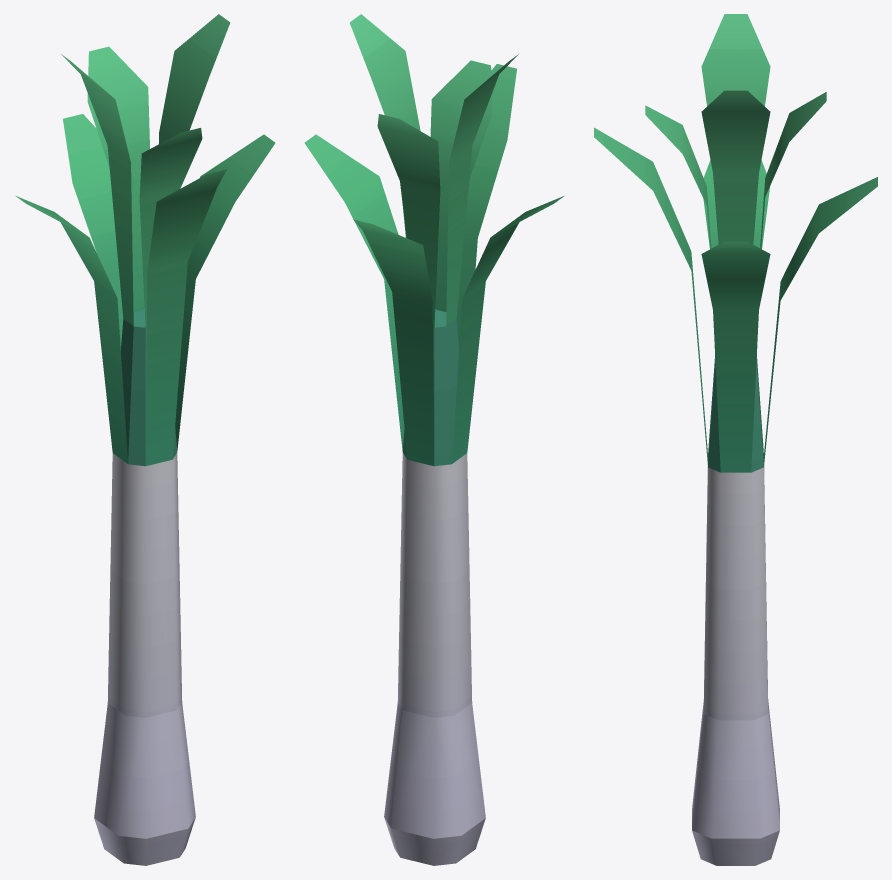
Rendered from leek.9b39f1b6ed.glb.
3 renders of one model, left to right at view 1: azimuth 30°, elevation 25°; view 2: azimuth 150°, elevation 25°; view 3: azimuth 270°, elevation 25°, orthographic.
Visible parts, largest first — view 1: leek; view 2: leek; view 3: leek.
Boxes of the visible parts, x1,y1,x2,y2 form: leek: [16, 14, 275, 865]; leek: [304, 14, 563, 865]; leek: [594, 14, 877, 865].
Size of the model in its own units: 0.2729 by 0.8474 by 0.2729.
Materials: 1 (1 with a texture image).
